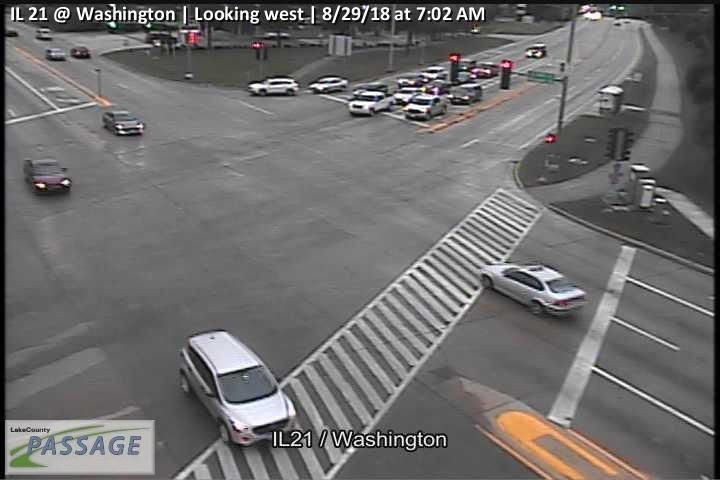SUV: (178, 329, 296, 447), (246, 77, 300, 96), (447, 83, 483, 105)
Sedan: (478, 260, 586, 317), (23, 158, 73, 194), (403, 93, 449, 120), (102, 109, 145, 134), (308, 76, 349, 94), (393, 86, 423, 104)
Truck: (347, 91, 393, 117)
